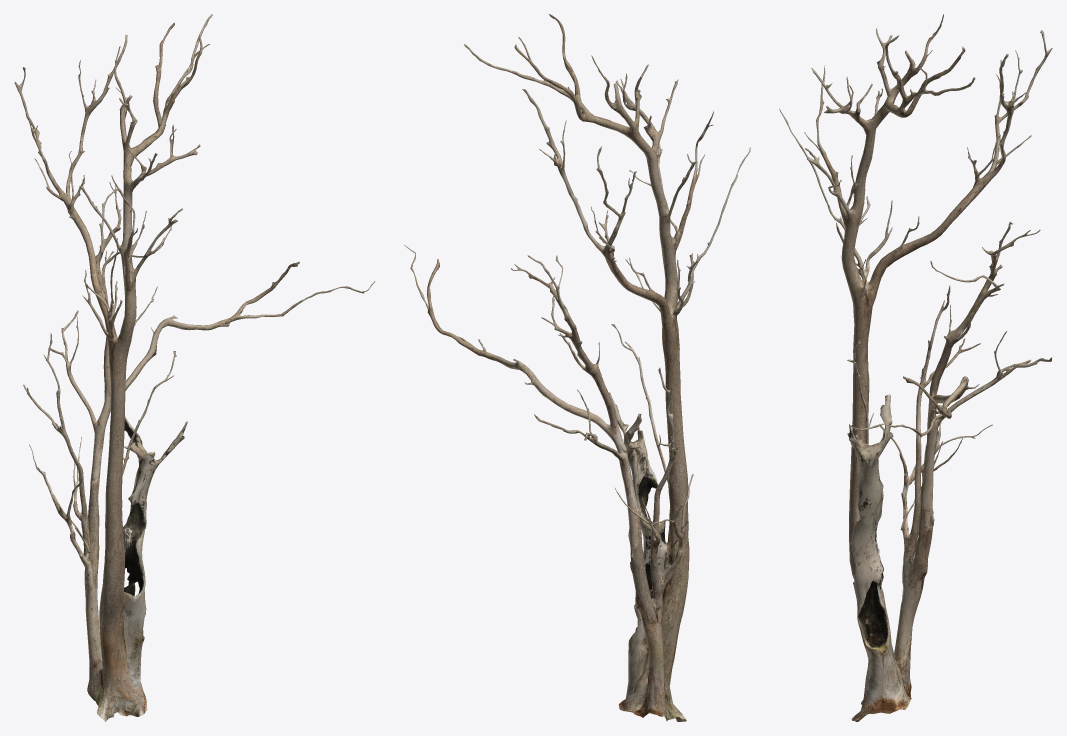
3 views of the same model, side by side, from view 1: azimuth 30°, elevation 25°; view 2: azimuth 150°, elevation 25°; view 3: azimuth 270°, elevation 25° (orthographic). The views are drawn at different scales.
Parts seen in each view (by area): view 1: rlthg_LOD0_TIER2_000; view 2: rlthg_LOD0_TIER2_000; view 3: rlthg_LOD0_TIER2_000.
Part boxes in pixels (<box>): rlthg_LOD0_TIER2_000: <box>14,14,375,721</box>; rlthg_LOD0_TIER2_000: <box>404,14,750,721</box>; rlthg_LOD0_TIER2_000: <box>779,14,1052,721</box>.
Bounding box in the file's own units: 4.26 × 8.81 × 2.99.
1 material, 1 textured.
